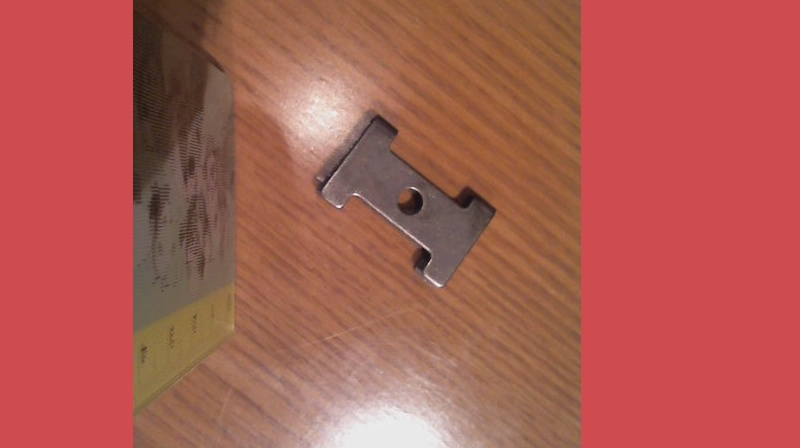O002: (313, 110, 495, 290)
